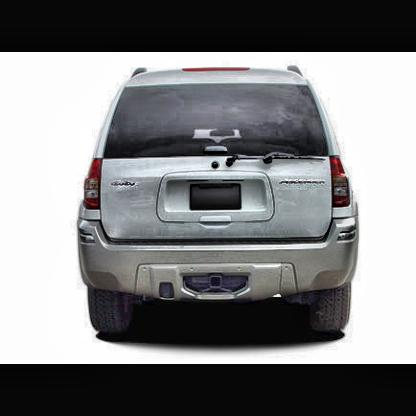Isuzu Ascender SUV 2008: (78, 62, 361, 345)
